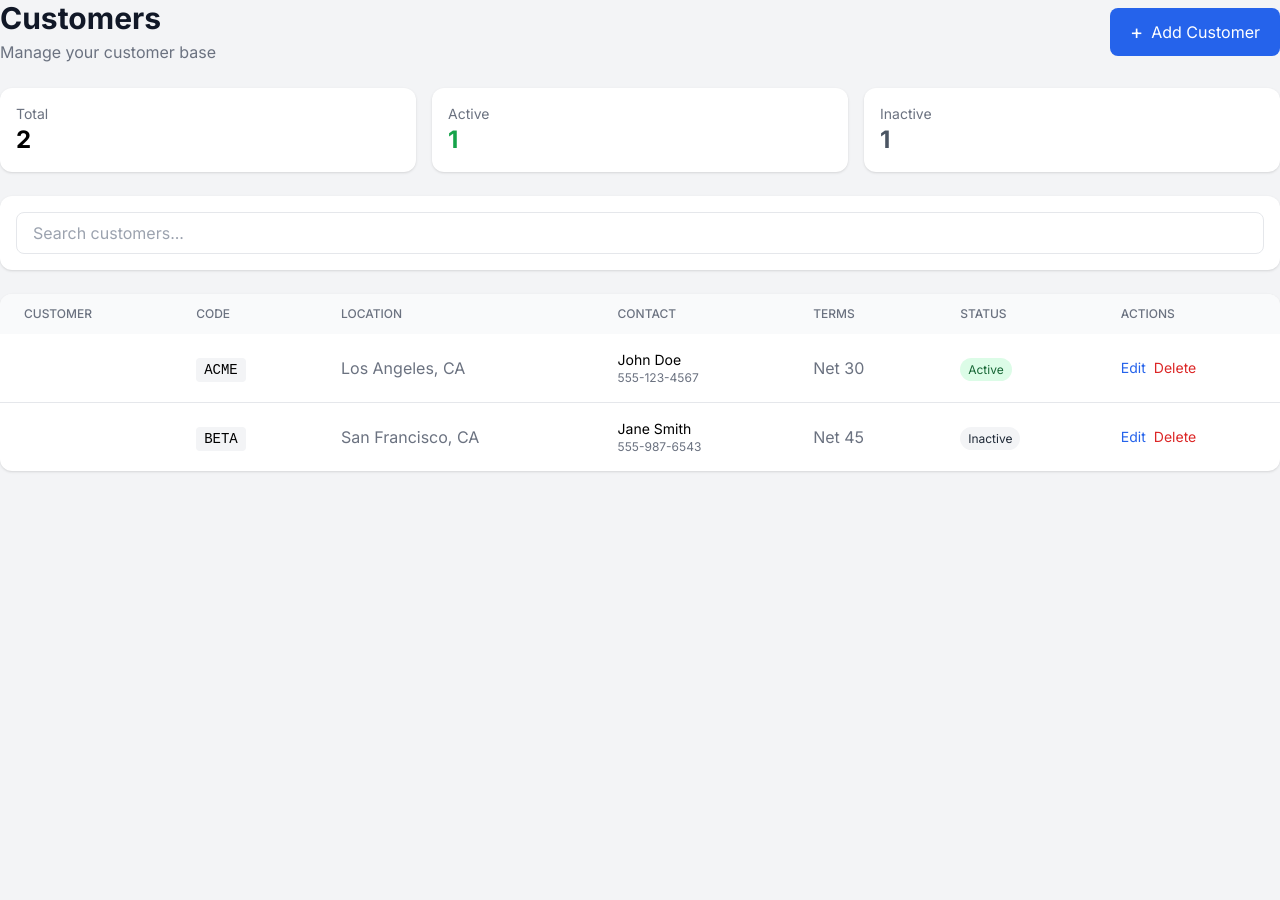
Test case: CustomersPage › add customer modal › should open modal when Add Customer button is clicked
Expected: the heading "Customers" is shown, top-left (0, 0), bottom-right (161, 36)
# Click the header Add Customer button
Click the button "+ Add Customer". click: [1195, 32]
box: top-left (1110, 8), bottom-right (1279, 56)
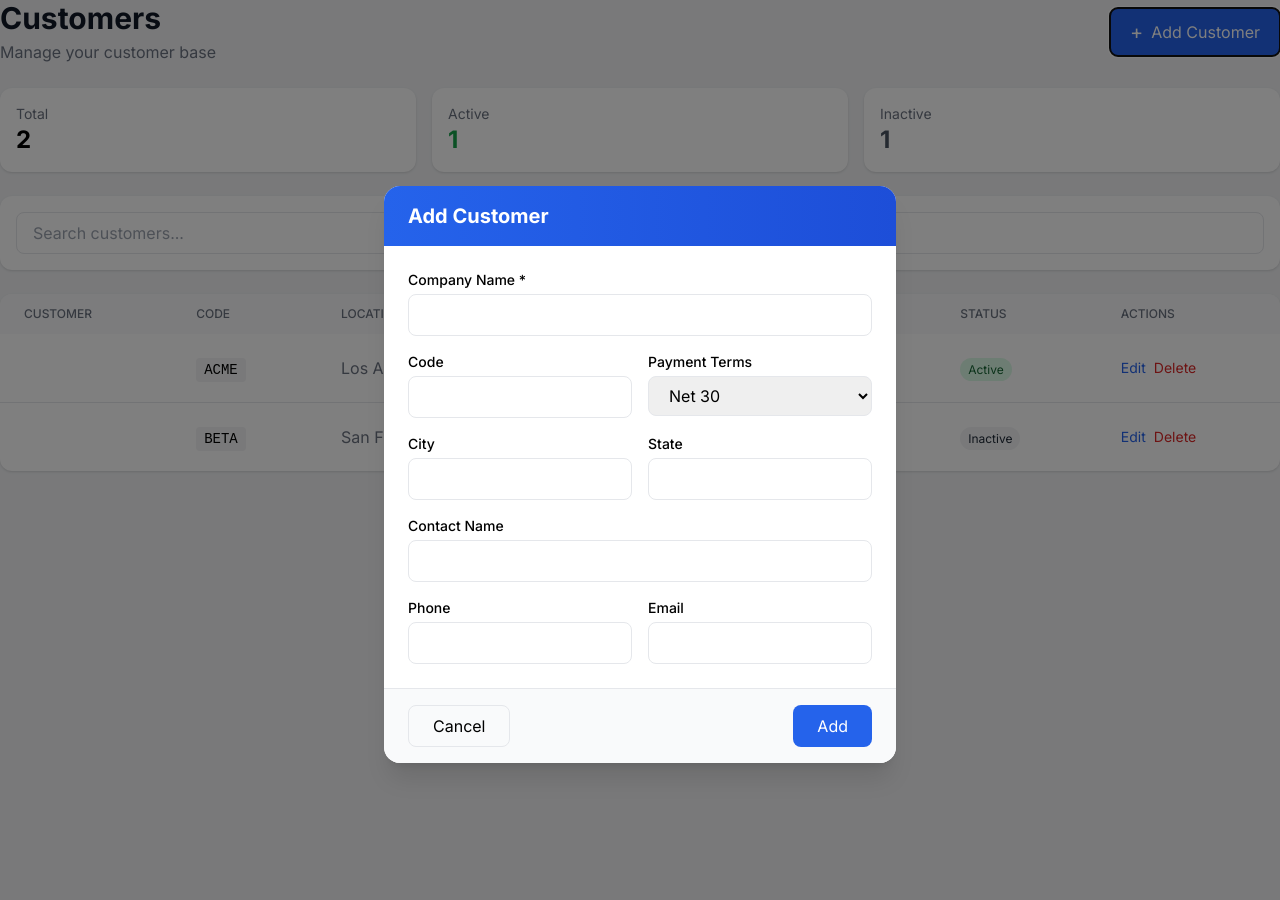
Now the heading "Add Customer" is shown, box top-left (408, 204), bottom-right (549, 228)
Now the text "Company Name *" is shown, box top-left (408, 270), bottom-right (526, 288)
